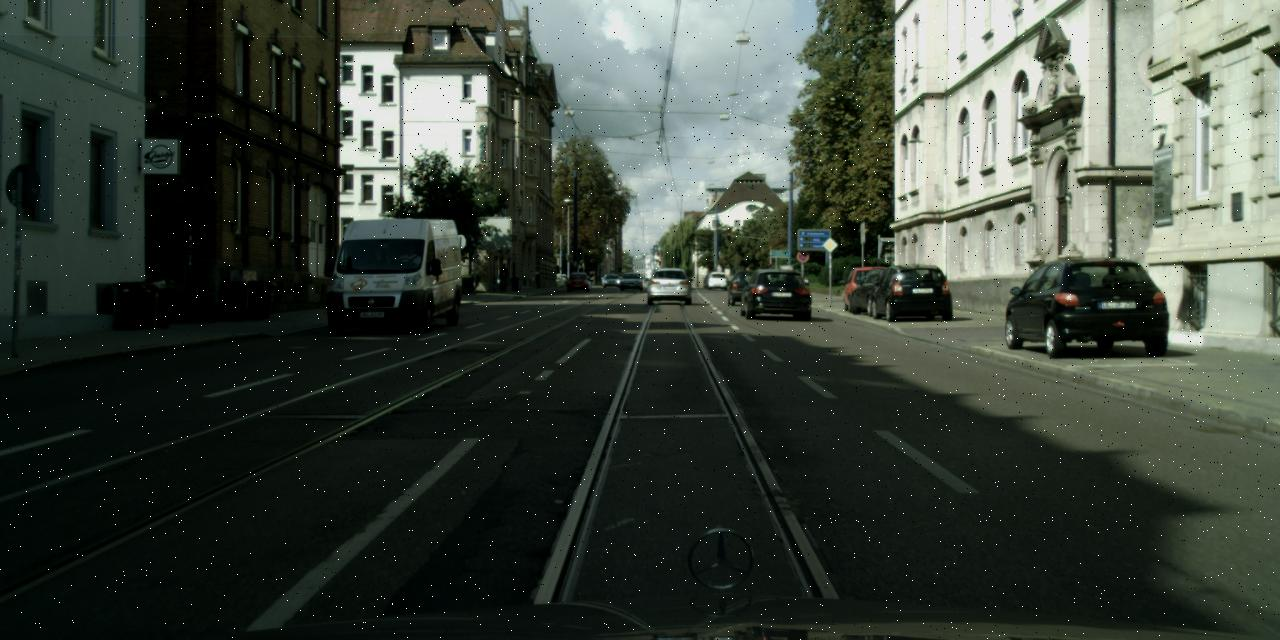ped: (497, 263, 508, 291), (534, 270, 540, 288)
